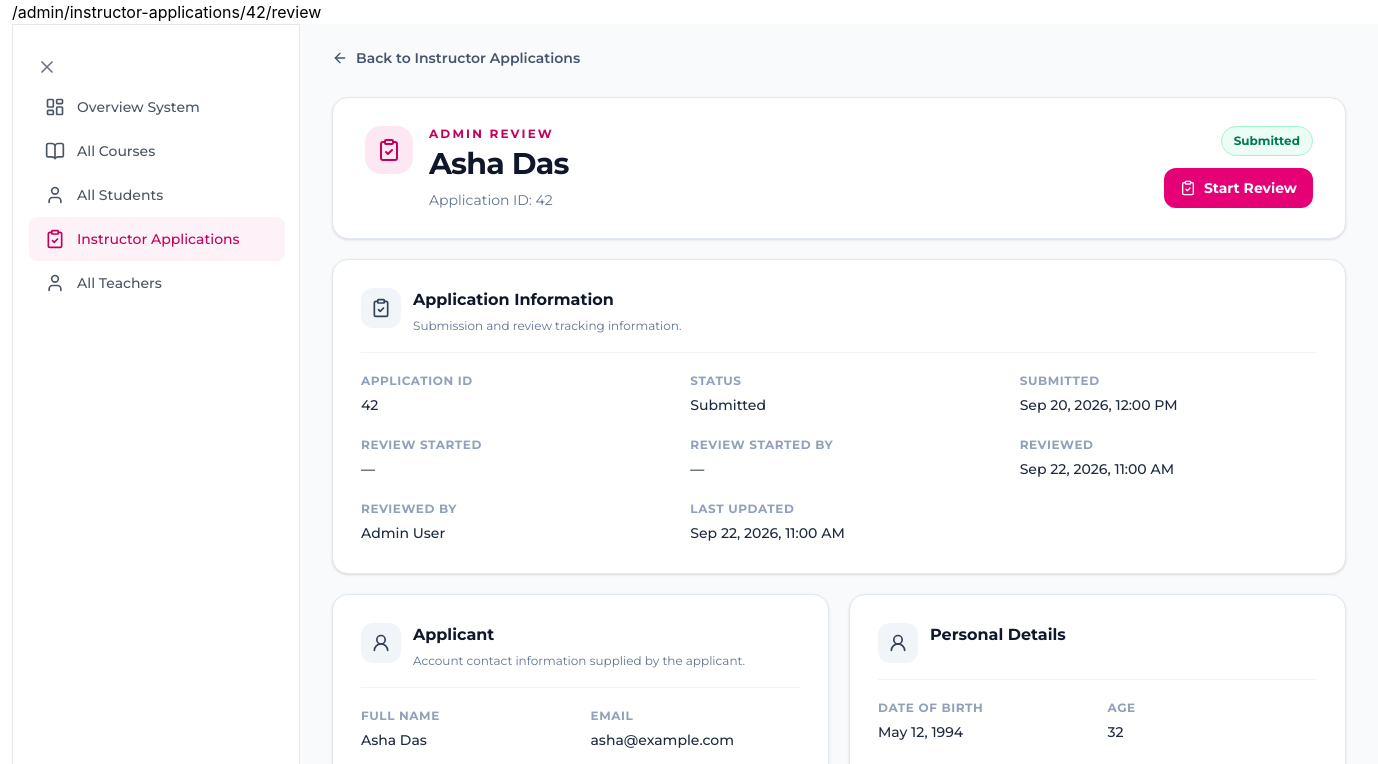
Instructor application review detail › shows Start Review only for submitted applications and updates from the backend response
The width and height of the screenshot is (1378, 764).
Expected: the button "Mark Verified" is not shown
Step 1. Click the button "Start Review" → (1238, 188), box x1=1164 y1=168 x2=1313 y2=208
(page scrolled)
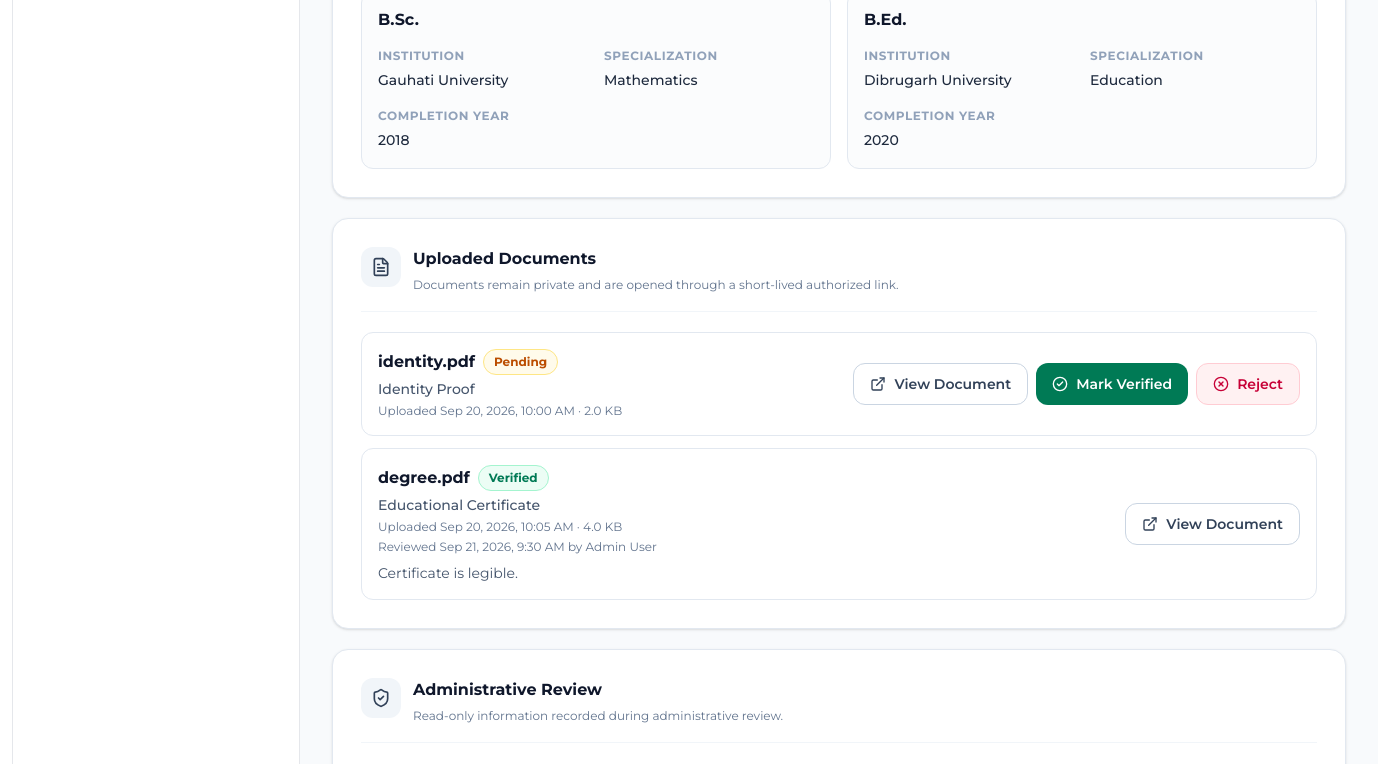
Now the button "Start Review" is gone
Now the button "Mark Verified" is shown, box x1=1036 y1=363 x2=1188 y2=405
